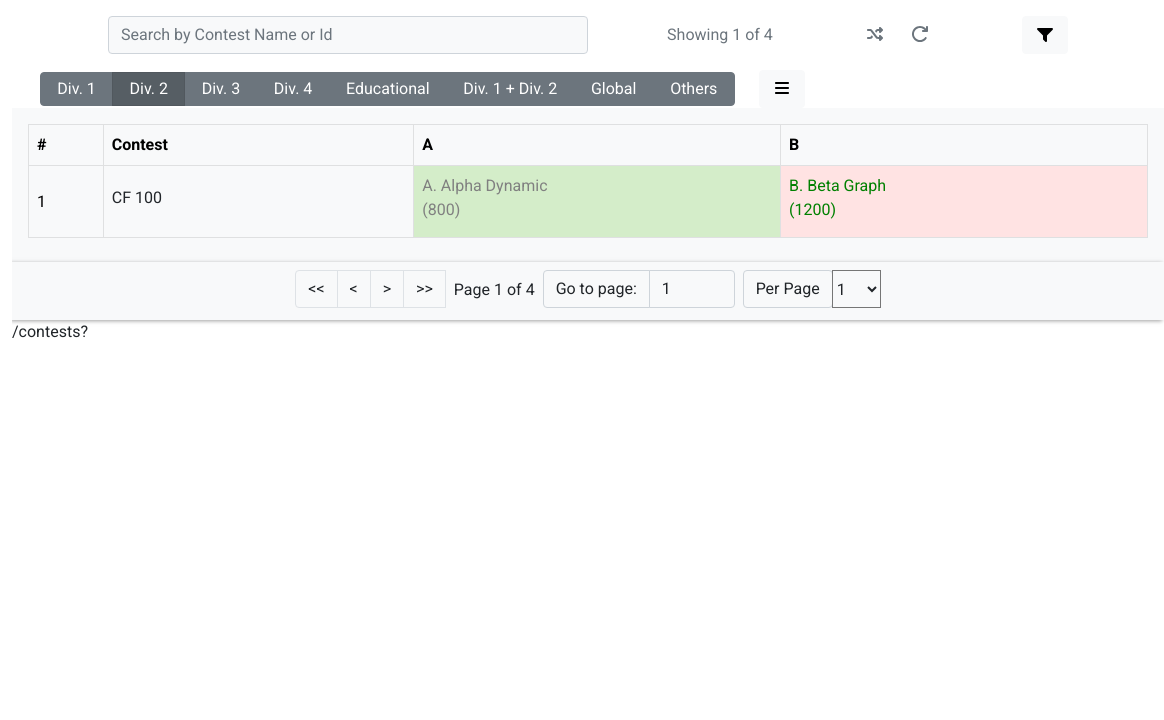
Test: next, previous, last, first, and page size controls preserve numbering
Click the button ">". click: (387, 289)
box: [370,270,404,308]
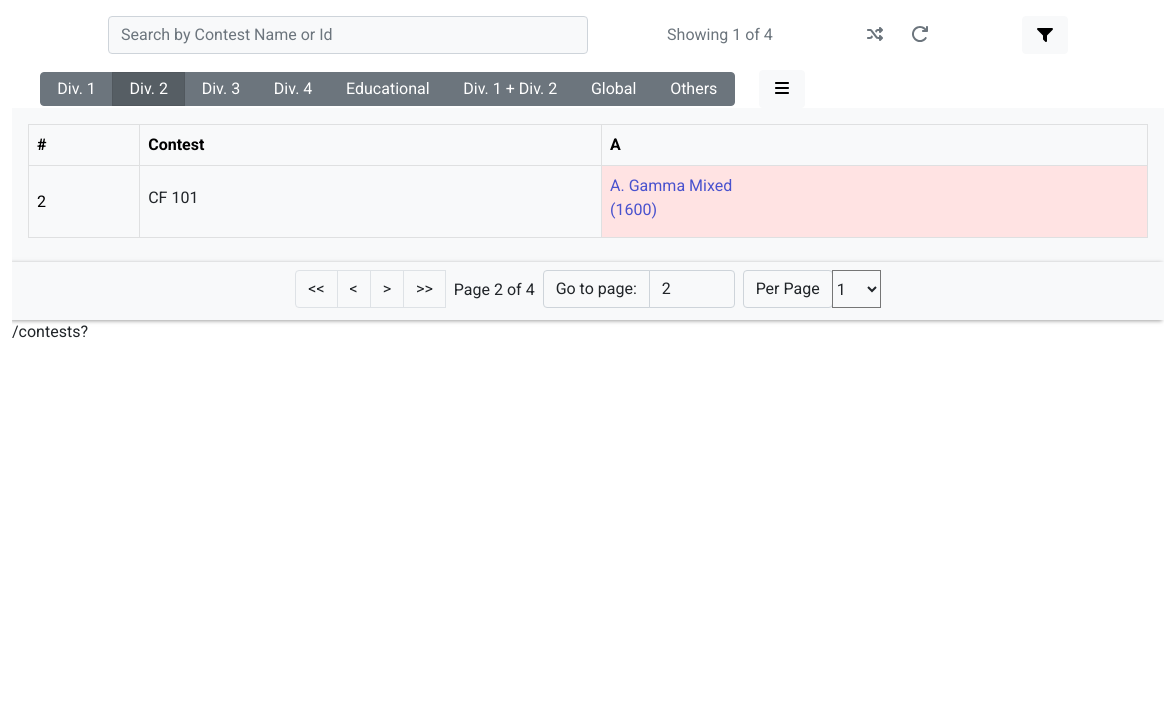
Check: the cell "2" is shown, box [28,166,140,238]
Click the button "<". click: (354, 289)
box: [337,270,371,308]
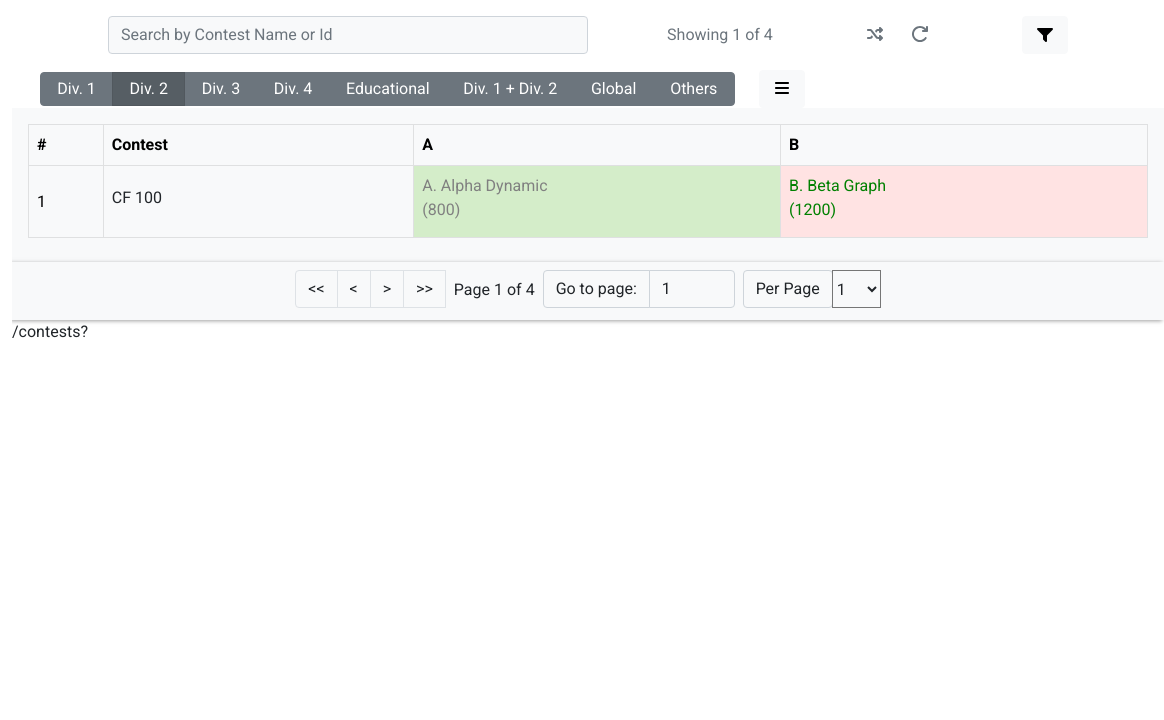
Click the button ">>". click: (424, 289)
box: [403,270,446,308]
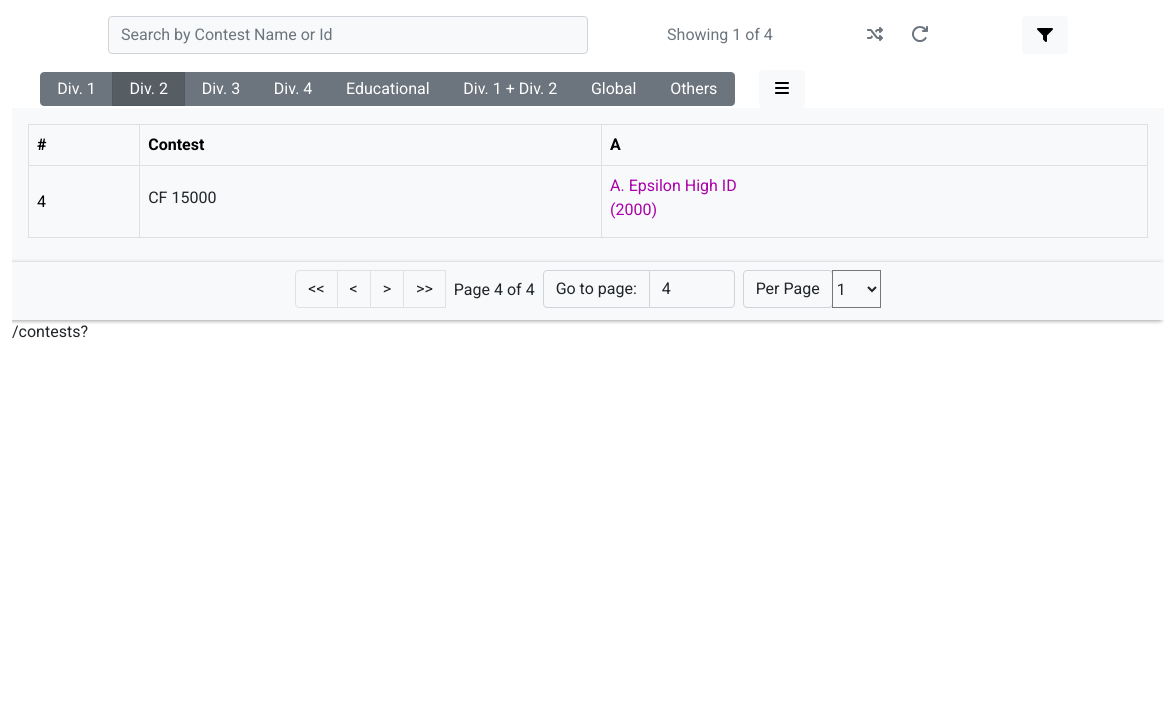
Click the button "<<". click: (316, 289)
box: [295,270,338,308]
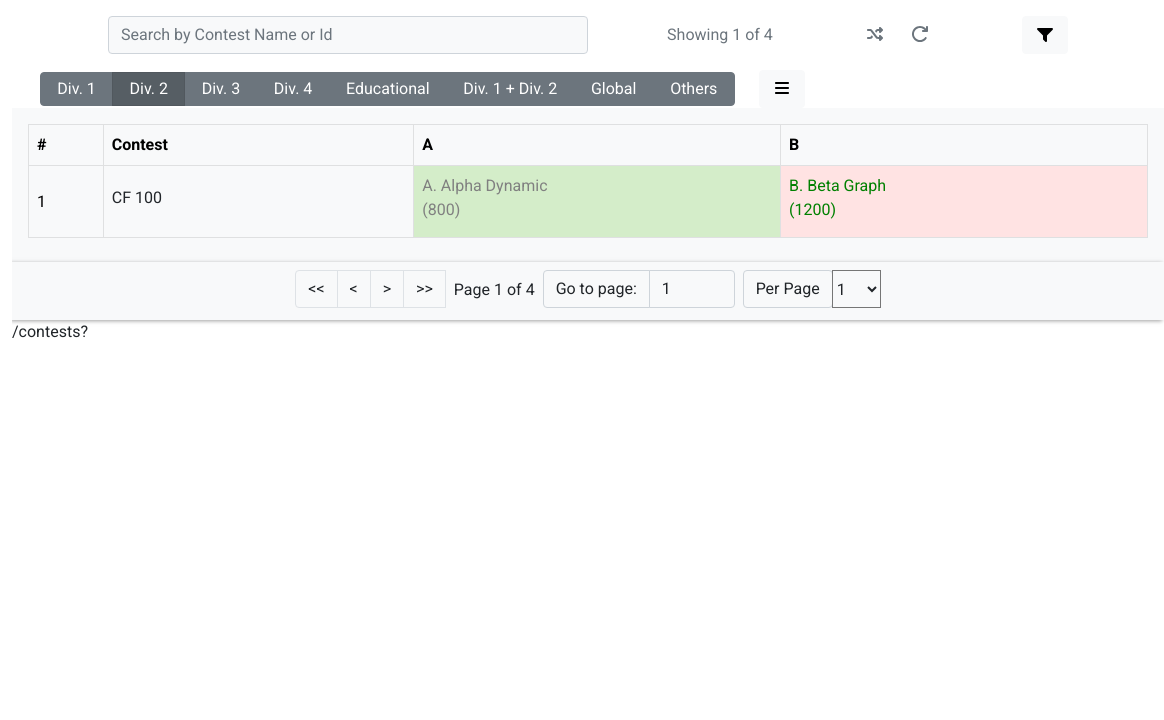
Select "4" in the dropdown labelled "Per Page". click: (856, 289)
box: [832,270,881,308]
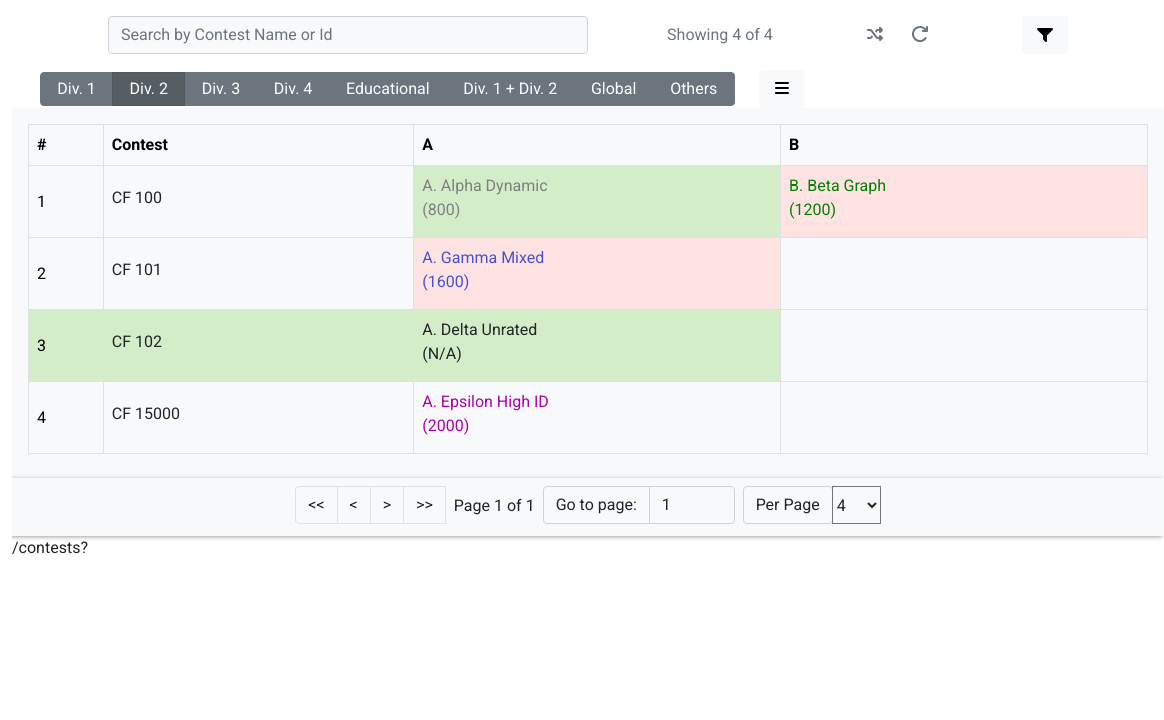
Check: the text "Page 1 of 1" is shown, box [454,496,535,515]
